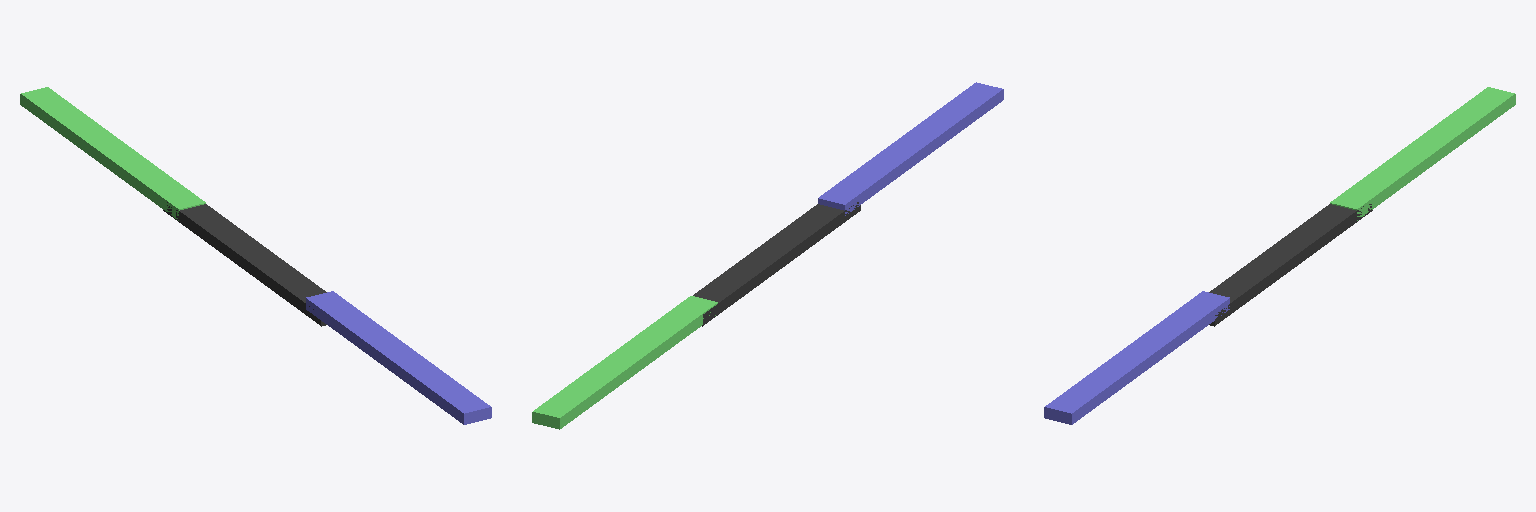
The robot description file, URDF, robot "SmarticleLowProfile":
<?xml version="1.0" encoding="UTF-8"?>
<robot name="SmarticleLowProfile">

	<!-- * * * Link Definitions * * * -->

 	<link name="base_link">
		<visual>
		    <origin xyz="0 0 0.001" rpy="0 0 0"/>
			<geometry>
				<box size="0.005 0.05 0.002"/>
			</geometry>
			<material name="Gray">
	       		<color rgba="0.3 0.3 0.3 1.0"/>
	     	</material>
		</visual>	

		<contact>
		  <static_friction value="0.6"/>
		  <lateral_friction value="0.6"/>
		  <spinning_friction value="0.05"/>
		</contact>
		
		<inertial>
		  <!-- <origin xyz="0 0 0" rpy="0 0 0" / -->
		<origin xyz="0 0 0.001" rpy="0 0 0"/>
		  <mass value="10e-3"/>
		  <inertia ixx="1" ixy="0" ixz="0" iyy="1" iyz="0" izz="1e-4"/>
		</inertial>

		<collision>
		    <origin xyz="0 0 0.001" rpy="0 0 0"/>
			<geometry>
				<box size="0.005 0.05 0.002"/>
			</geometry>
		</collision>
	</link>
	
 	<link name="arm1">
		<visual>
		    <origin xyz="0 0.0225 0.0011" rpy="0 0 0"/>
			<geometry>
				<box size="0.005 0.05 0.002"/>
			</geometry>
			<material name="Green1">
	       		<color rgba="0.5 0.9 0.5 1.0"/>
	     	</material>
		</visual>	

		<contact>
		  <static_friction value="0.6"/>
		  <lateral_friction value="0.6"/>
		  <spinning_friction value="0.05"/>
		</contact>
		
		<inertial>
		    <origin xyz="0 0.0225 0.0011" rpy="0 0 0"/>
		  <mass value="10.0"/>
		  <inertia ixx="1" ixy="0" ixz="0" iyy="1" iyz="0" izz="1"/>
		</inertial>

		<collision>
		    <origin xyz="0 0.0225 0.0011" rpy="0 0 0"/>
			<geometry>
				<box size="0.005 0.05 0.002"/>
			</geometry>
		</collision>
	</link>
	
 	<link name="arm2">
		<visual>
		    <origin xyz="0 -0.0225 0.001" rpy="0 0 0"/>
			<geometry>
				<box size="0.005 0.05 0.002"/>
			</geometry>
			<material name="Blue1">
	       		<color rgba="0.5 0.5 0.9 1.0"/>
	     	</material>
		</visual>	

		<contact>
		  <static_friction value="0.6"/>
		  <lateral_friction value="0.6"/>
		  <spinning_friction value="0.05"/>
		</contact>
		
		<inertial>
		    <origin xyz="0 -0.0225 0.001" rpy="0 0 0"/>
		  <mass value="10.0"/>
		  <inertia ixx="1" ixy="0" ixz="0" iyy="1" iyz="0" izz="1"/>
		</inertial>

		<collision>
		    <origin xyz="0 -0.0225 0.001" rpy="0 0 0"/>
			<geometry>
				<box size="0.005 0.05 0.002"/>
			</geometry>
		</collision>
	</link>
	
	<!-- * * * Joint Definitions * * * -->

	<joint name="j_1" type="revolute" damping="0.1">
    	<parent link="base_link"/>
    	<child link="arm1"/>
    	<origin xyz="0 0.0225 0.0001" rpy="0 0 0"/>
    	<axis xyz="0 0 1"/>
    	<limit lower="-3.1416" upper="3.1416" effort="10" velocity="10"/>
  	</joint>

	<joint name="j_2" type="revolute" damping="0.1">
    	<parent link="base_link"/>
    	<child link="arm2"/>
    	<origin xyz="0 -0.0225 0.001" rpy="0 0 0"/>
    	<axis xyz="0 0 1"/>
    	<limit lower="-3.1416" upper="3.1416" effort="10" velocity="10"/>
  	</joint>

</robot>

--- What the picture shows (computed from the rendered views, not written in the file) ---
The picture shows the robot from 3 angles, left to right: view 1: azimuth 30°, elevation 25°; view 2: azimuth 150°, elevation 25°; view 3: azimuth 330°, elevation 25°; orthographic projection.
Model SmarticleLowProfile with 3 links and 2 joints (2 revolute), rooted at base_link, posed every joint at zero.
Links seen in each view (by area): view 1: arm2, arm1, base_link; view 2: arm1, arm2, base_link; view 3: arm2, arm1, base_link.
Boxes of the visible links, <box> form: arm2: <box>306,291,491,424</box>; arm1: <box>20,87,205,220</box>; base_link: <box>163,202,326,326</box>; arm1: <box>532,296,717,429</box>; arm2: <box>818,82,1003,215</box>; base_link: <box>693,202,860,326</box>; arm2: <box>1044,291,1229,424</box>; arm1: <box>1330,87,1515,220</box>; base_link: <box>1209,204,1372,326</box>.
Bounding box of the posed robot: 0.005 × 0.14 × 0.003 m (x, y, z).
Geometry: primitives only (box / cylinder / sphere), no mesh files.